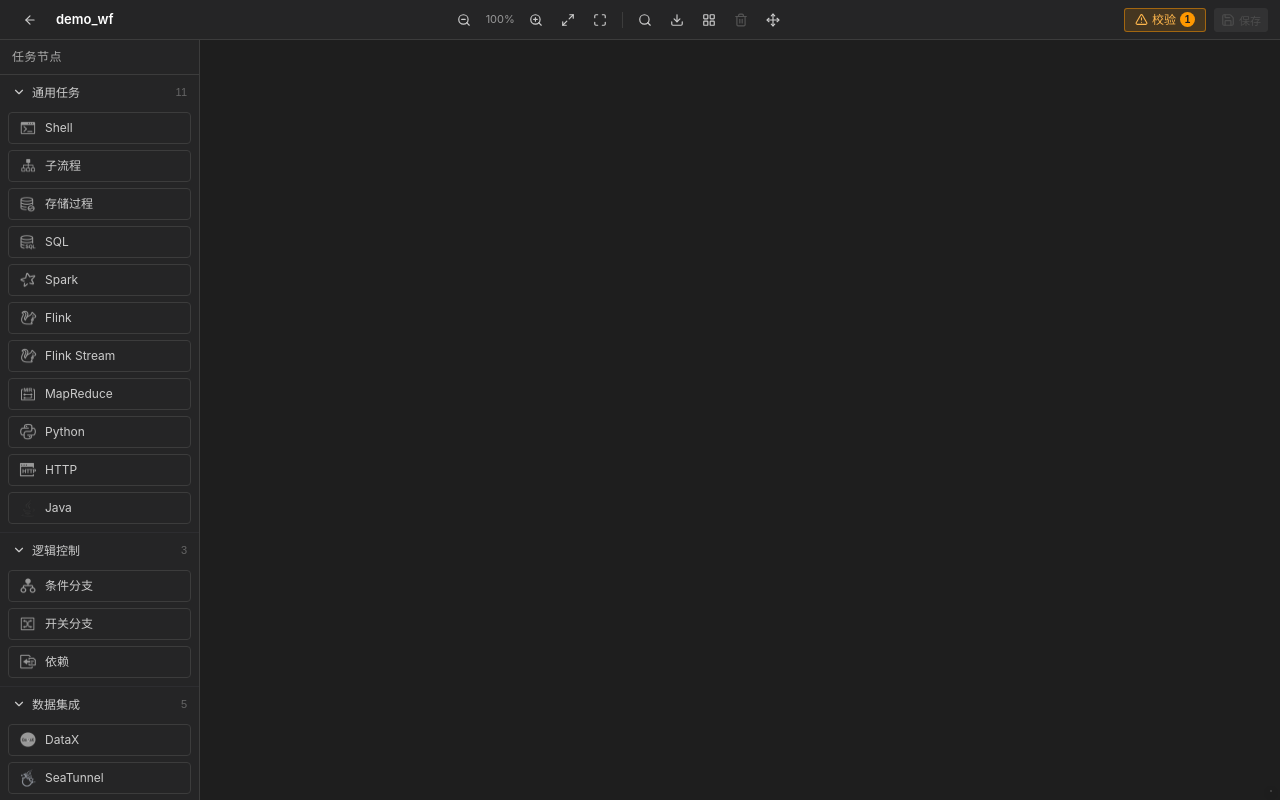
Scenario: WorkflowDefinitionEditor - 委托式校验通过前的保存闸门（onValidate） › 参数校验未通过（report）时保存按钮仍不可用
This screenshot has width=1280, height=800.
Click the button with test id "wf-toolbar-validate". click: {"x": 1165, "y": 20}
box: [1124,8,1206,32]
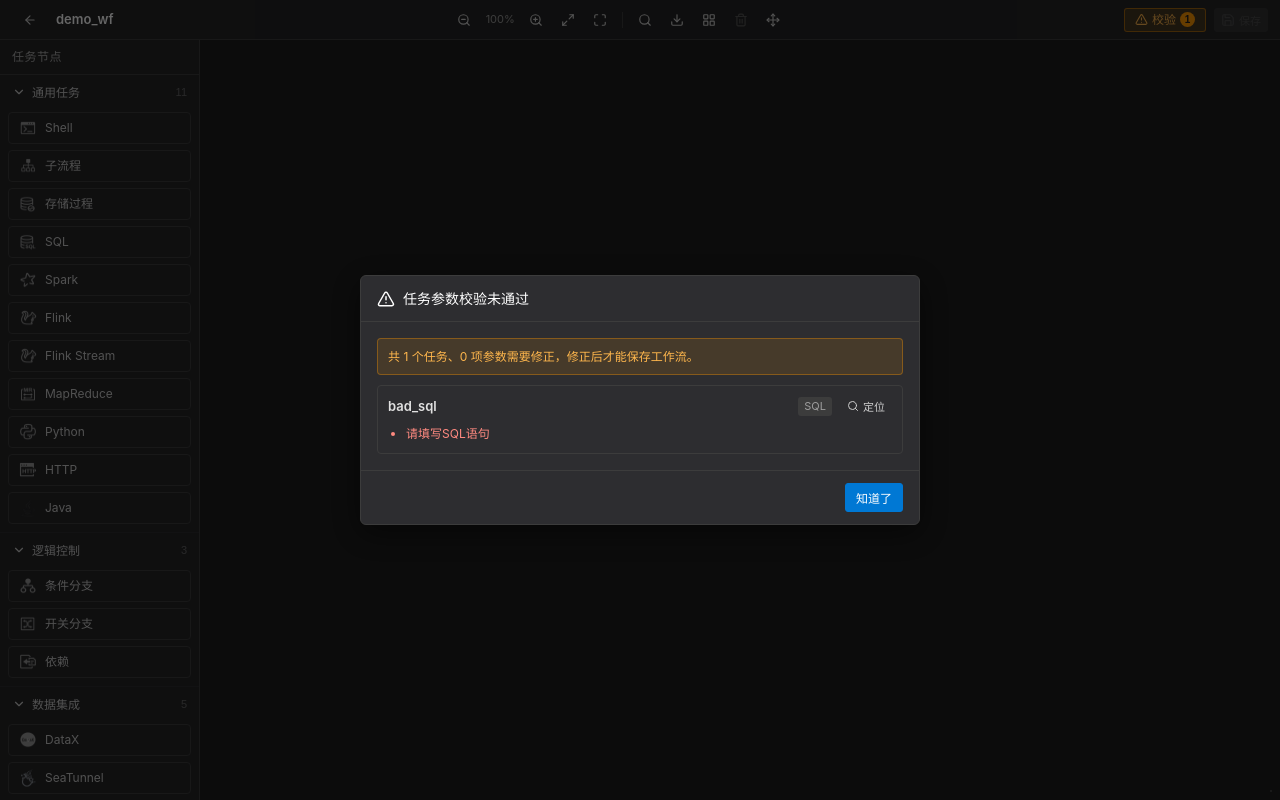
Expected: the text "任务参数校验未通过" is shown, [403,288,529,309]
